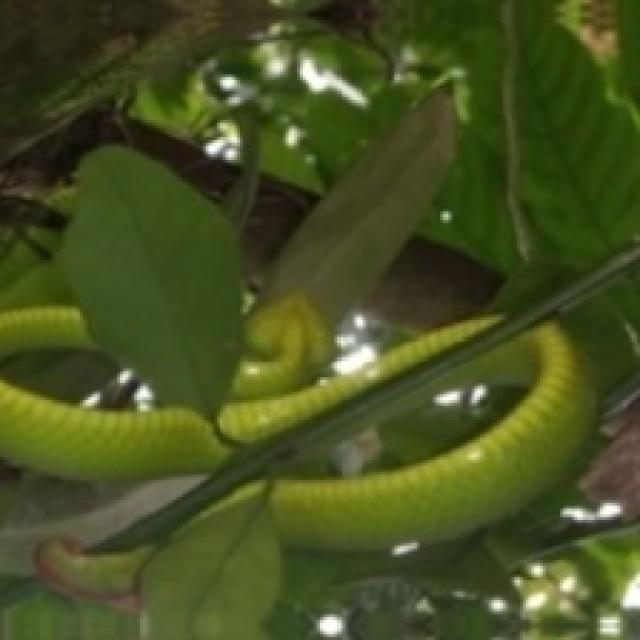north ph temple pitviper: (0, 314, 497, 477), (269, 323, 591, 546)
